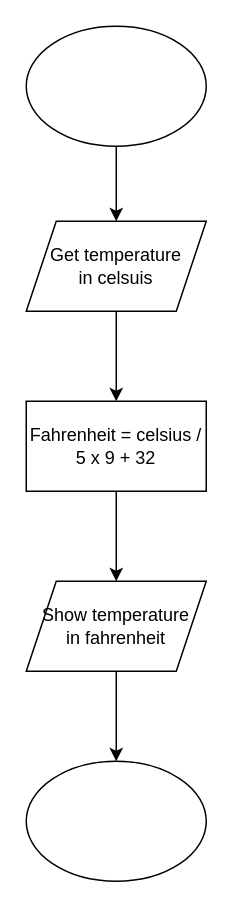
Some shapes in this 233 by 908 pixel diagram are drawn without their labels. Each missing label, with the centre of its shape:
"Start" goes at (115,85).
"Stop" goes at (115,820).
